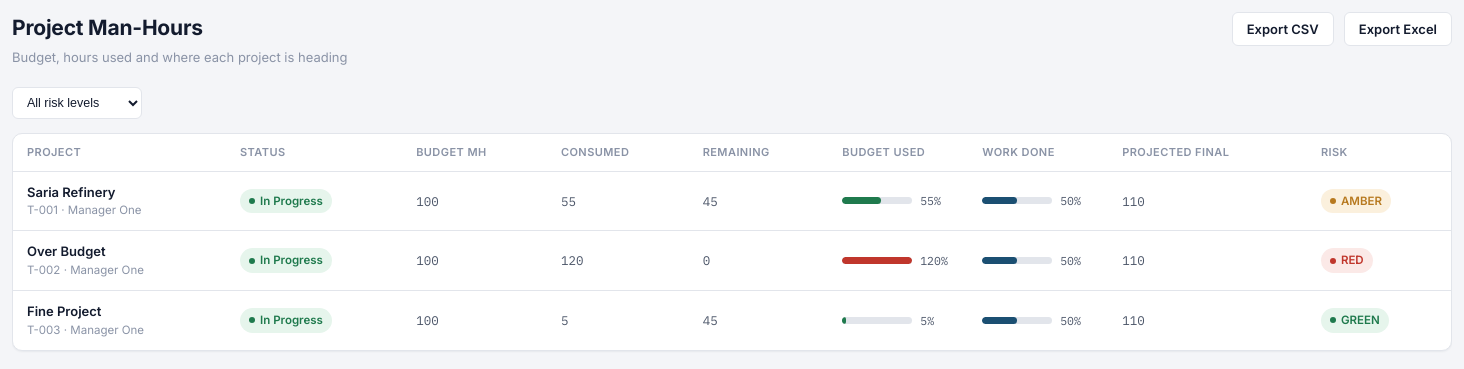
Project man-hours › filters by risk level
Expected: the text "Saria Refinery" is shown, [27, 184, 116, 200]
Select "Red (1)" in the dropdown named "Risk" at (77, 103), box [12, 87, 142, 119]
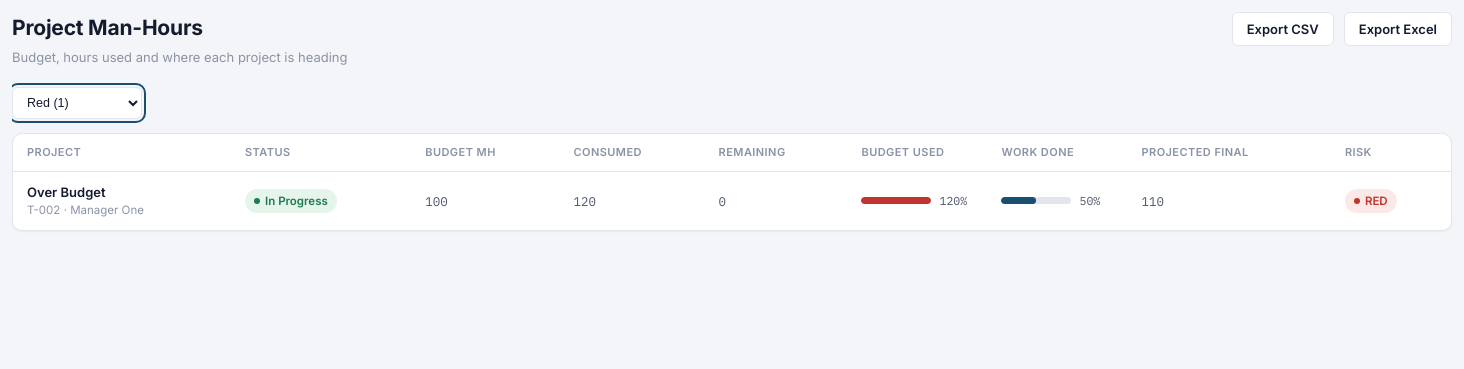
Expected: the text "Over Budget" is shown, [27, 184, 106, 200]
Expected: the text "Saria Refinery" is gone
Expected: the text "Fine Project" is gone
